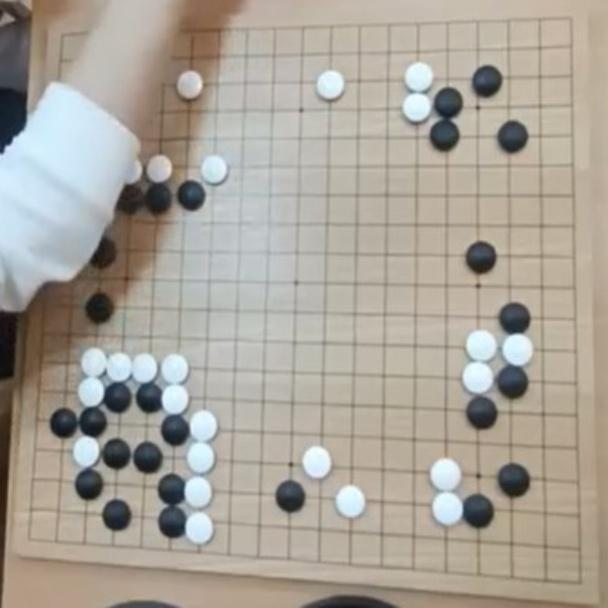corners: (551, 548, 606, 599), (550, 0, 592, 47), (43, 14, 85, 60), (10, 511, 58, 550)
